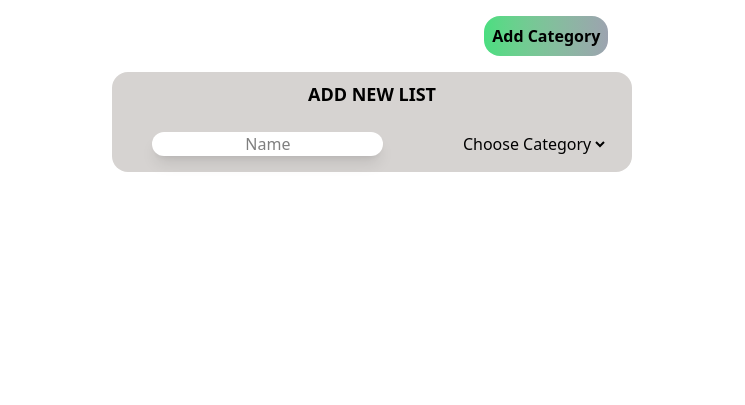
Test: AddList component › shows item input only after entering name and category
Type "Weekly Groceries" into the field with placeholder "Name" at (268, 144), box [152,132,383,156]
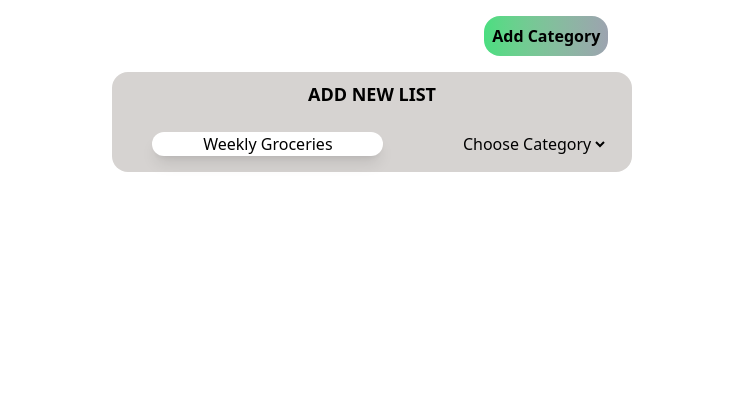
Select "Groceries" in the dropdown showing "Choose Category" at (533, 144), box [459,132,608,156]
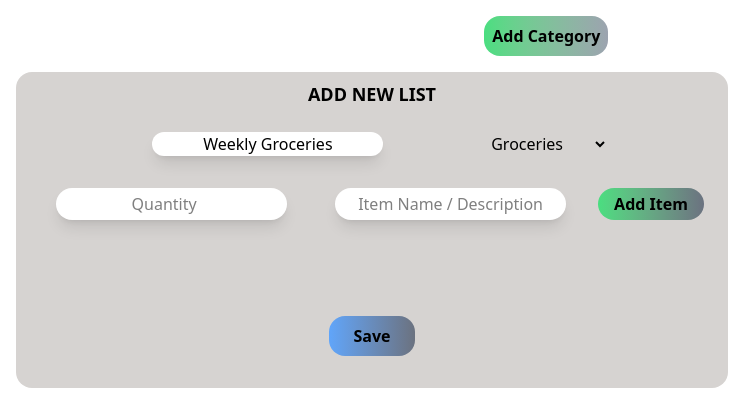
Expected: the number field with placeholder "Quantity" is shown, [56,188,287,220]
